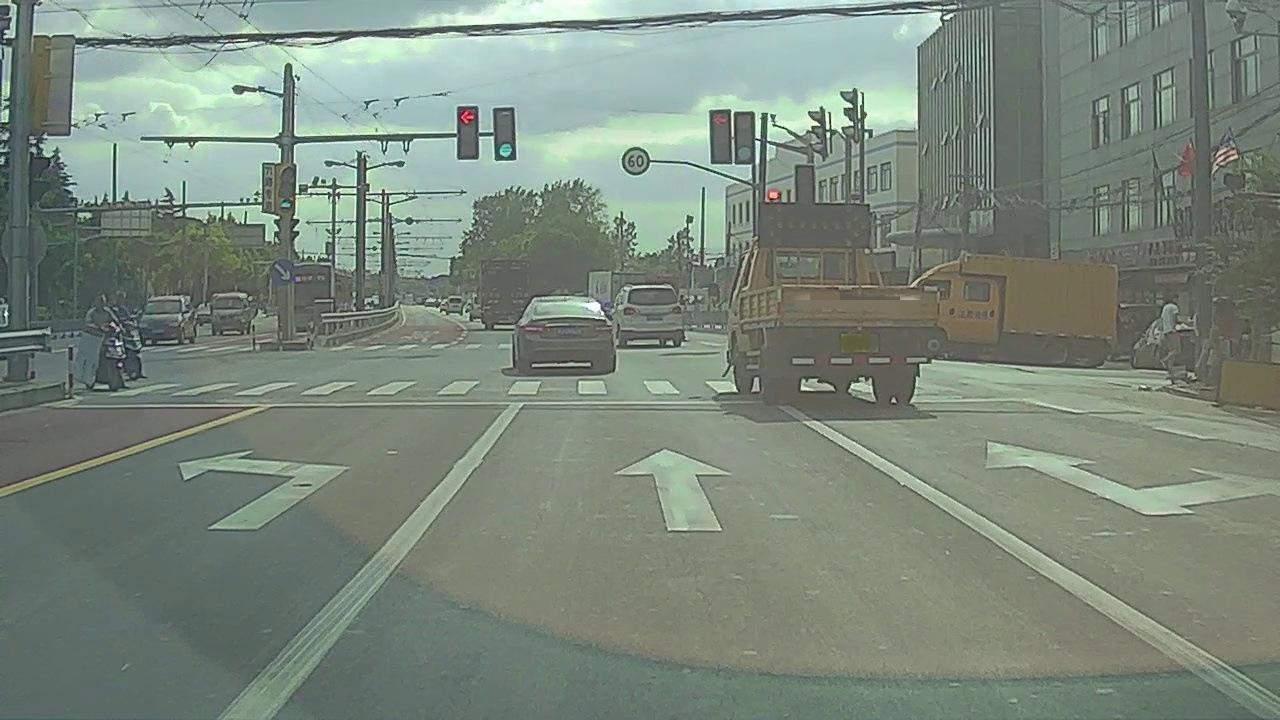traffic_light: (708, 111, 730, 163), (495, 108, 517, 158), (457, 108, 478, 159), (736, 110, 755, 164)
